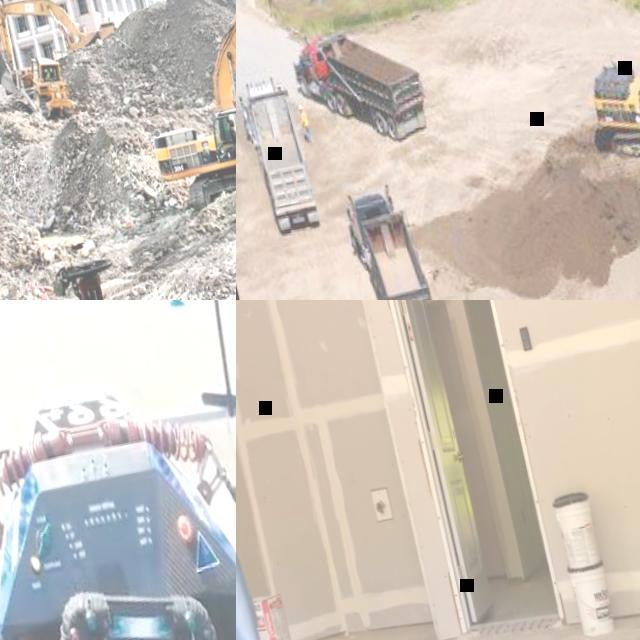helmet: (296, 103, 302, 110)
vest: (298, 110, 308, 127), (44, 71, 51, 79)
